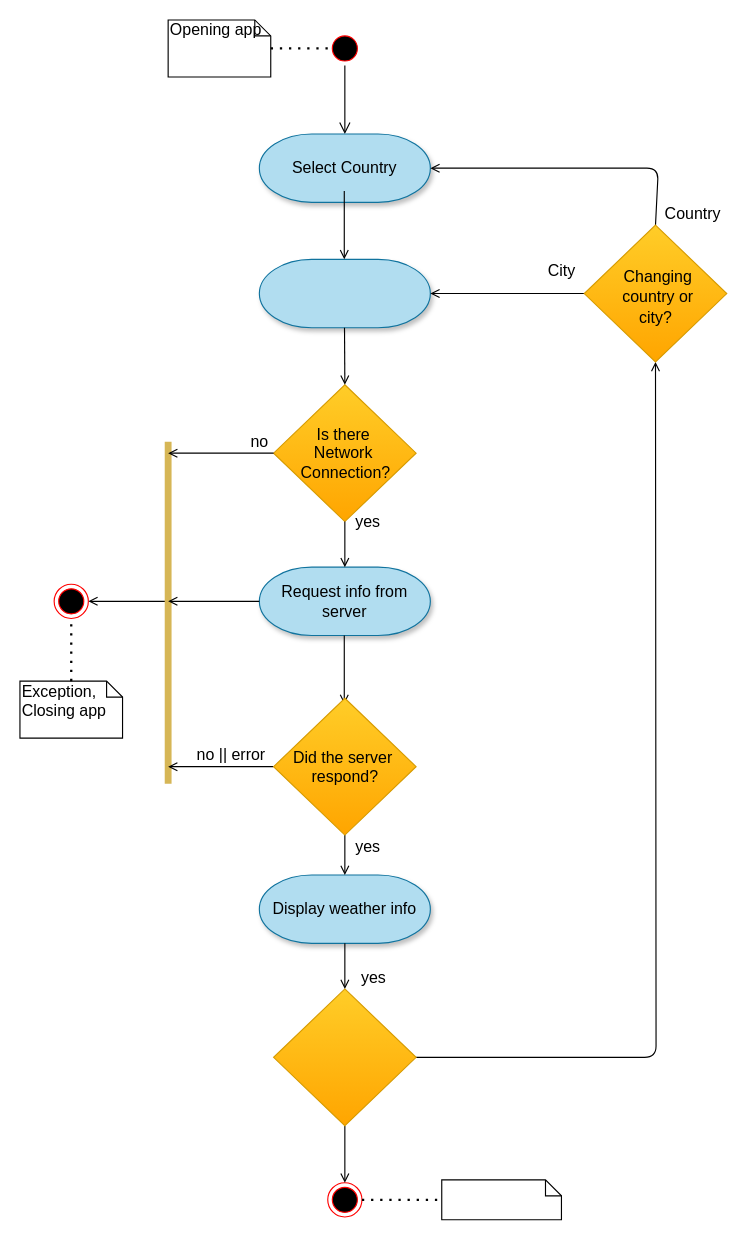
The diagram is 747 pixels wide and 1240 high, and some of its shapes have lost their labels. The shapes that lost their labels are listed below. From the top down, each one's centre as x and y in pixels, then its label:
the point at 345,295: Select City
the point at 344,1057: Check another location?
the point at 501,1199: Closing app
